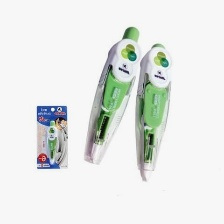book: (35, 103, 70, 171)
correction_fluid: (82, 21, 144, 166), (133, 40, 174, 182), (45, 118, 60, 166)
